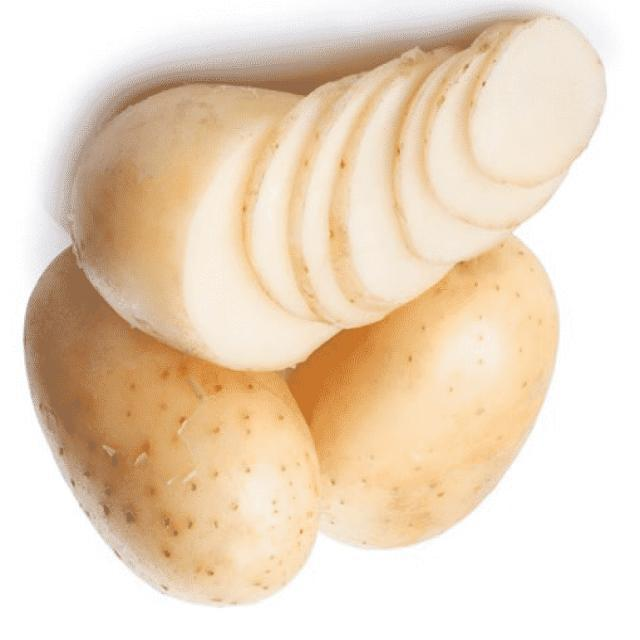potato: (69, 21, 598, 373), (25, 243, 322, 607), (292, 242, 559, 550)
